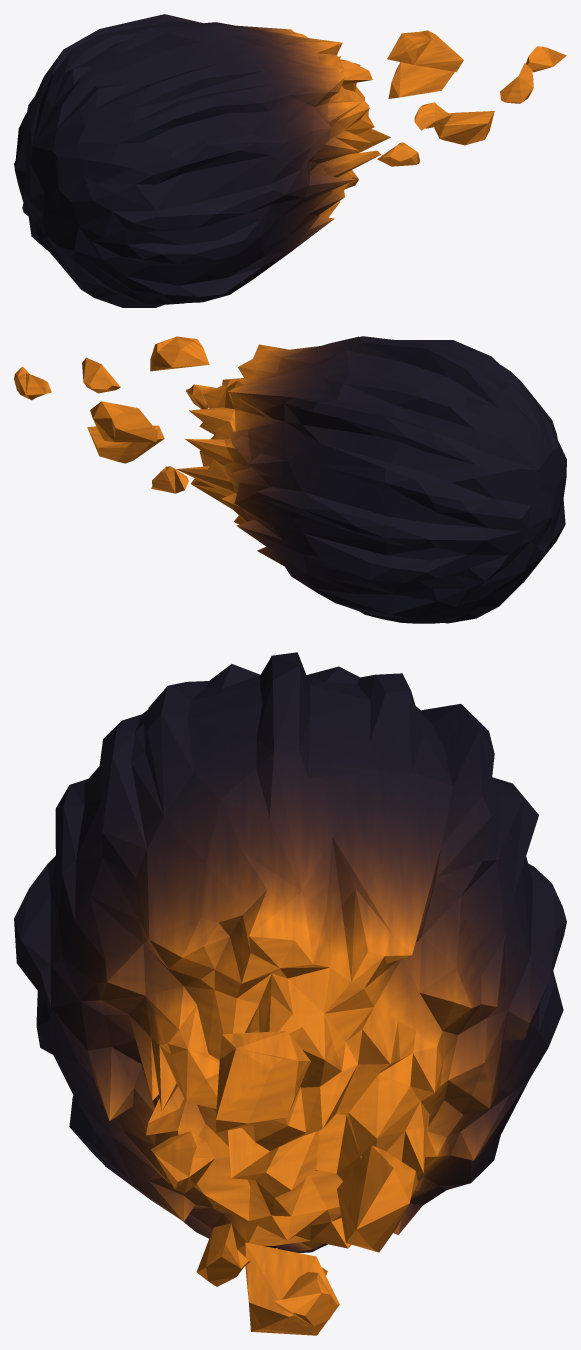
File: Asteroid_1.FBX
3 views of the same model, one above another, from view 1: azimuth 30°, elevation 25°; view 2: azimuth 150°, elevation 25°; view 3: azimuth 270°, elevation 25° (orthographic). The views are drawn at different scales.
Visible parts, largest first — view 1: Group27683; view 2: Group27683; view 3: Group27683.
Boxes of the visible parts, x1=… form: Group27683: x1=14, y1=14, x2=566, y2=307; Group27683: x1=14, y1=336, x2=566, y2=623; Group27683: x1=14, y1=652, x2=566, y2=1335.
Bounding box in the file's own units: 48.02 × 21.87 × 23.5.
